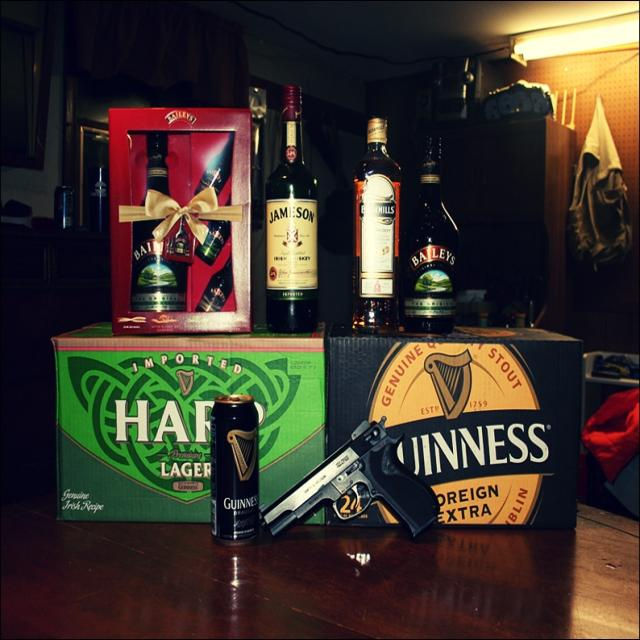guiness: (395, 351, 559, 481), (222, 425, 261, 511)
